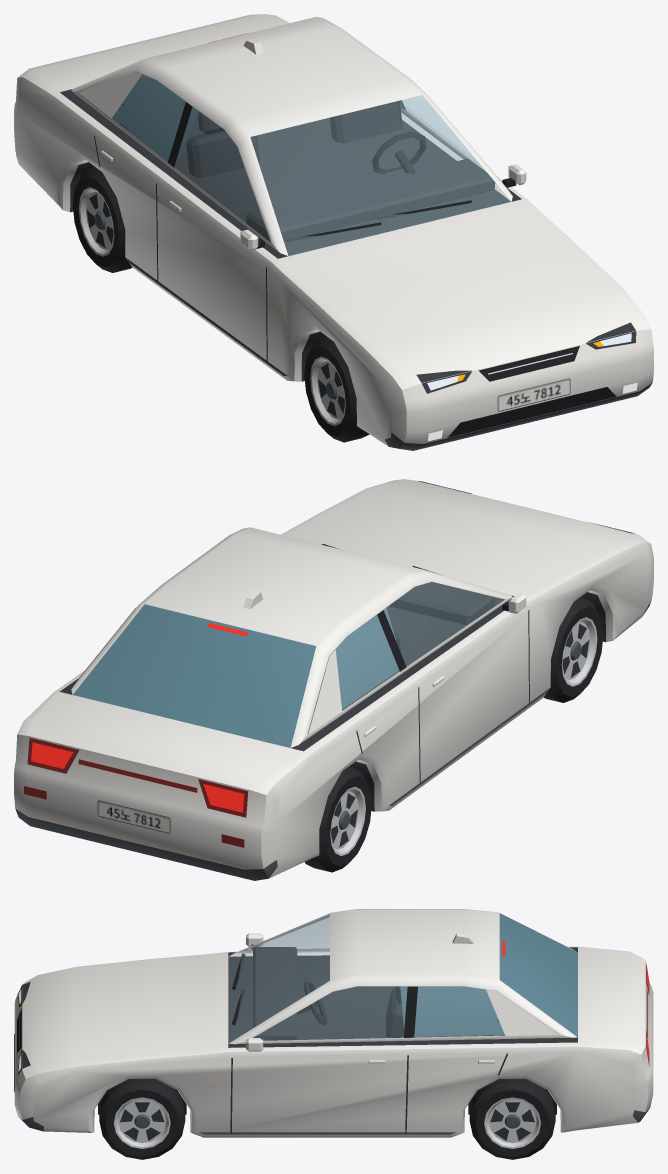
File: SC_Veh_Car_Sedan_White.gltf
3 views of the same model, one above another, from view 1: azimuth 30°, elevation 25°; view 2: azimuth 150°, elevation 25°; view 3: azimuth 270°, elevation 25° (orthographic). The views are drawn at different scales.
Visible parts, largest first — view 1: SC_Veh_Car_Sedan_White; view 2: SC_Veh_Car_Sedan_White; view 3: SC_Veh_Car_Sedan_White.
Part boxes in pixels (box(x1,y1,x2,y2)): SC_Veh_Car_Sedan_White: box(14, 14, 653, 450); SC_Veh_Car_Sedan_White: box(14, 479, 653, 880); SC_Veh_Car_Sedan_White: box(14, 909, 653, 1159).
Size of the model in its own units: 1.97 by 1.51 by 4.91.
Materials: 4 (4 with a texture image).
